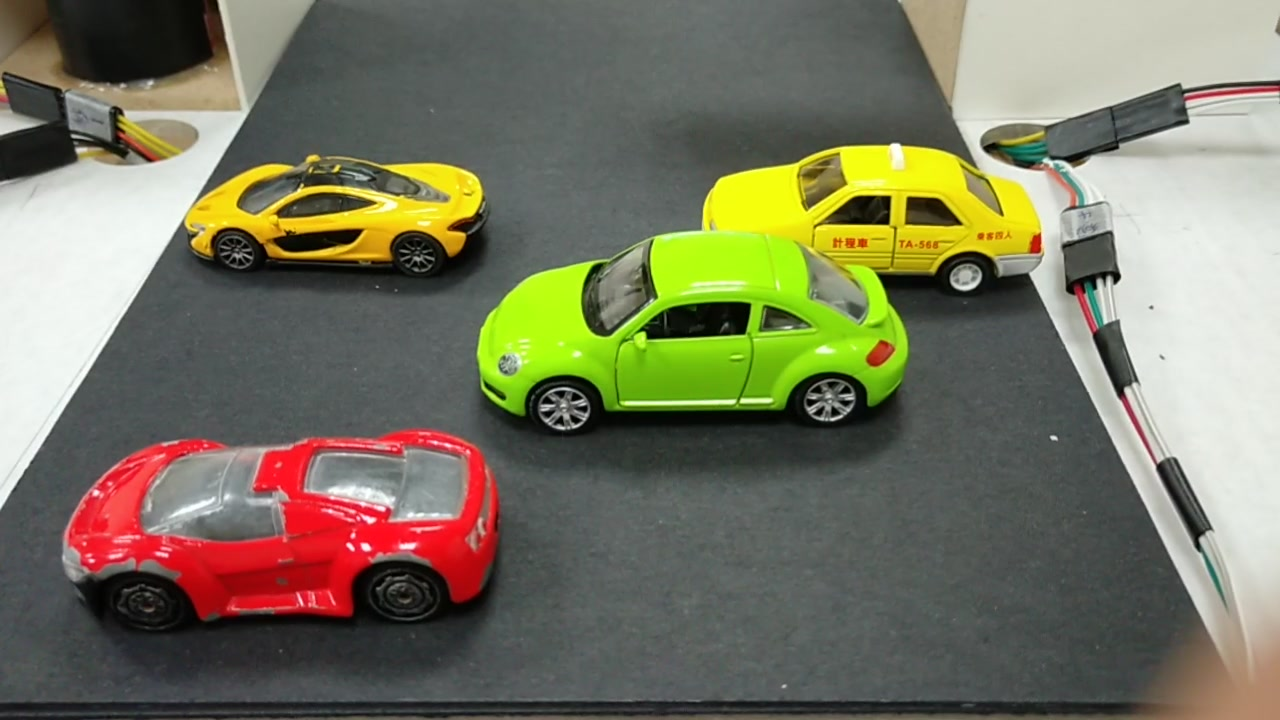car: (57, 430, 500, 630), (476, 239, 910, 420), (474, 237, 908, 418), (693, 136, 1051, 289), (188, 163, 488, 274)
